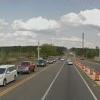Car: (14, 56, 53, 79)
